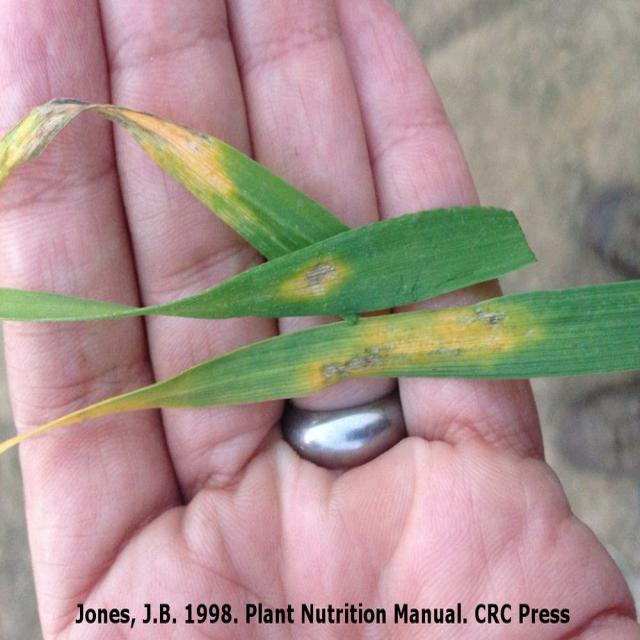wheat-septoria: (0, 99, 536, 319), (54, 279, 640, 429)
